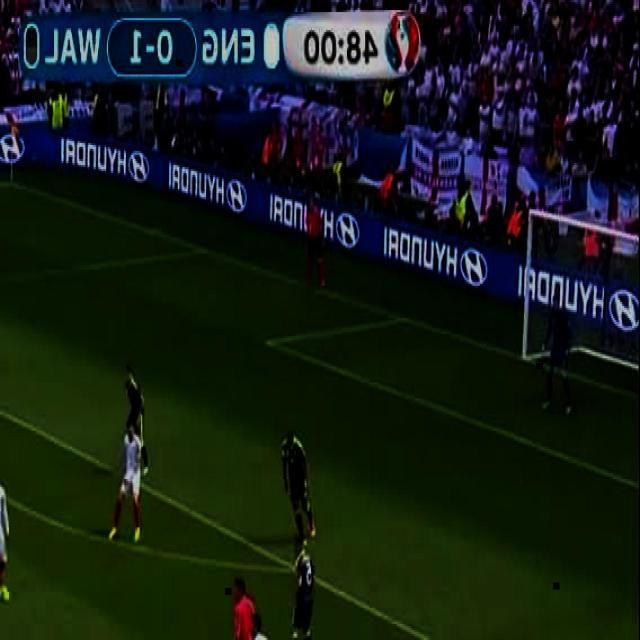player-white: (108, 424, 142, 545), (281, 431, 316, 545), (542, 294, 574, 414), (123, 367, 149, 479), (291, 535, 315, 640), (306, 195, 326, 287), (232, 575, 257, 640), (0, 460, 10, 599), (247, 609, 278, 640)
